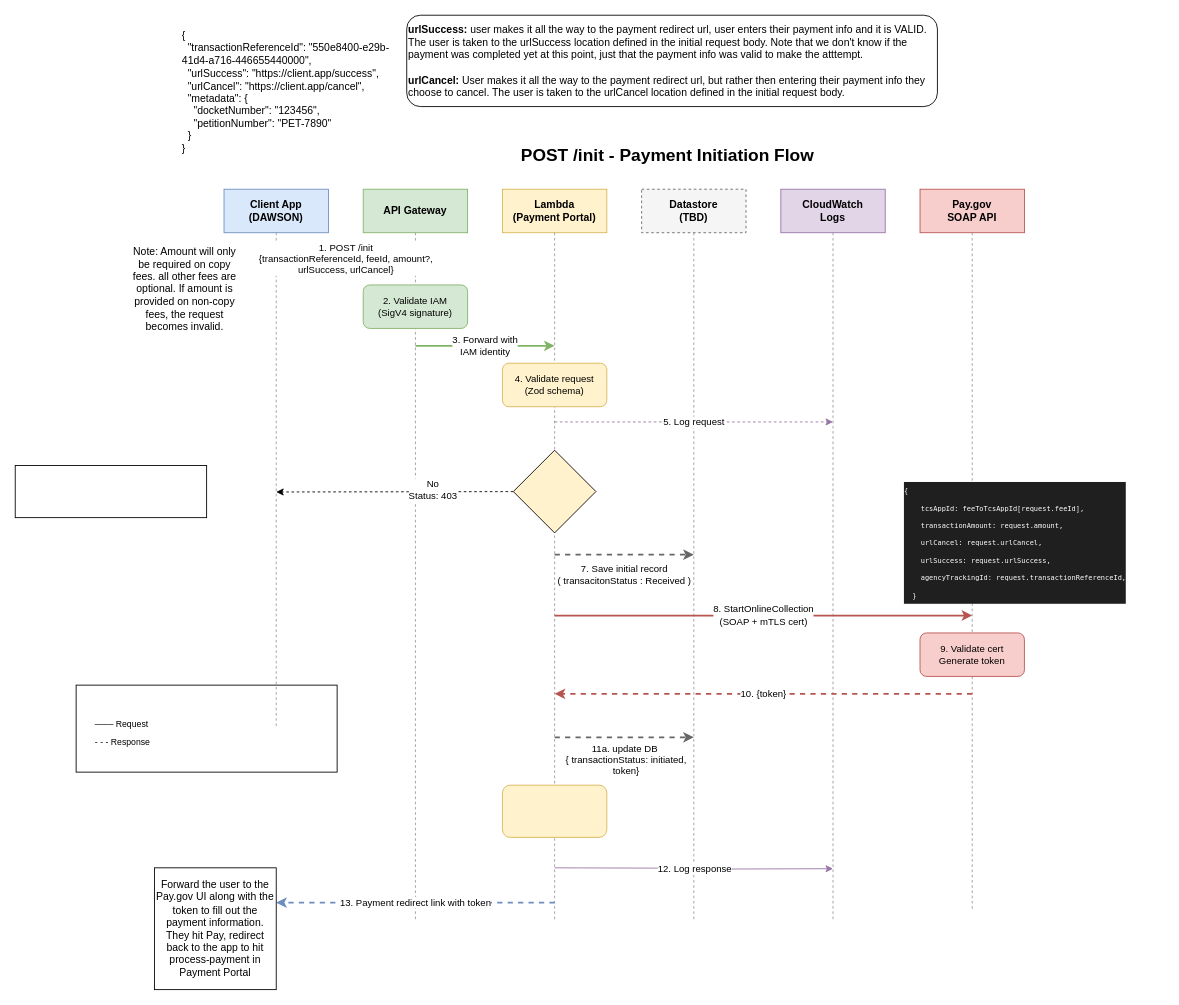
This 1179x1005 diagram has some shape labels left out. Here are the shapes that lost their labels. From the top down, the box of each, then its label:
(14, 465, 207, 518): 6. Authorize App for fee See: authentication-authorization-flow.drawio
(512, 449, 596, 533): 6. App authorized for Fee?
(75, 684, 337, 772): Legend
(502, 784, 607, 837): 11b. Build response paymentRedirect = PAYMENT_URL?token=...
